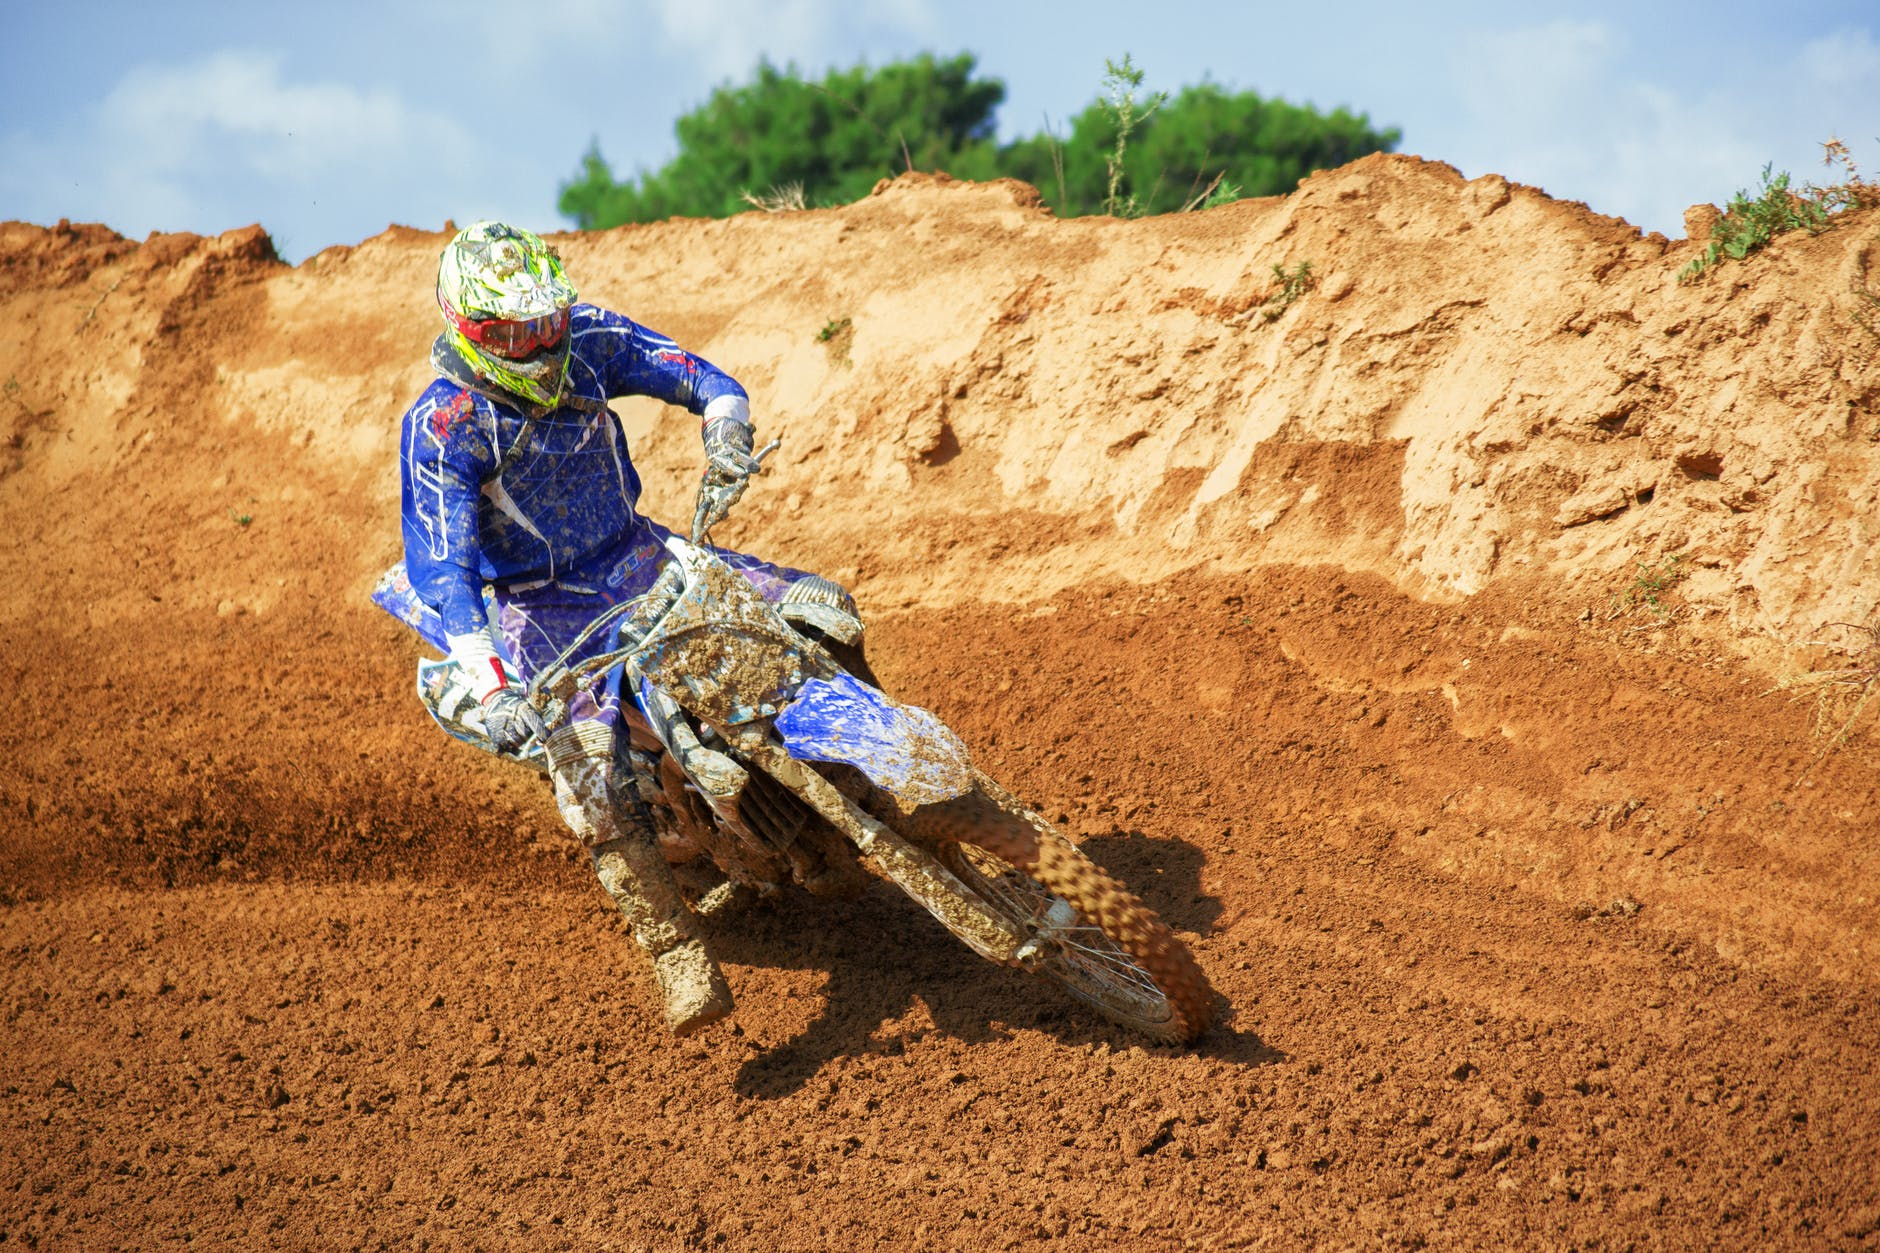helmet: (438, 207, 581, 396)
